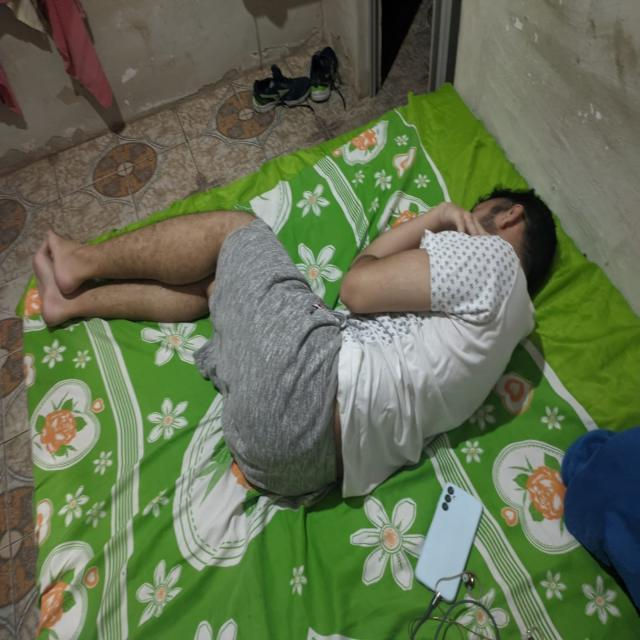deitado: (33, 179, 557, 498)
